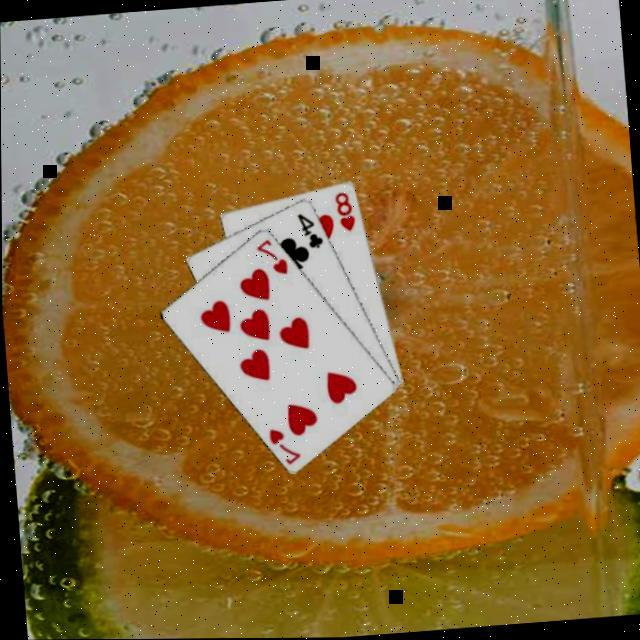4C: (294, 210, 326, 253)
7H: (252, 236, 292, 281), (265, 425, 304, 471)
8H: (332, 189, 359, 237)
